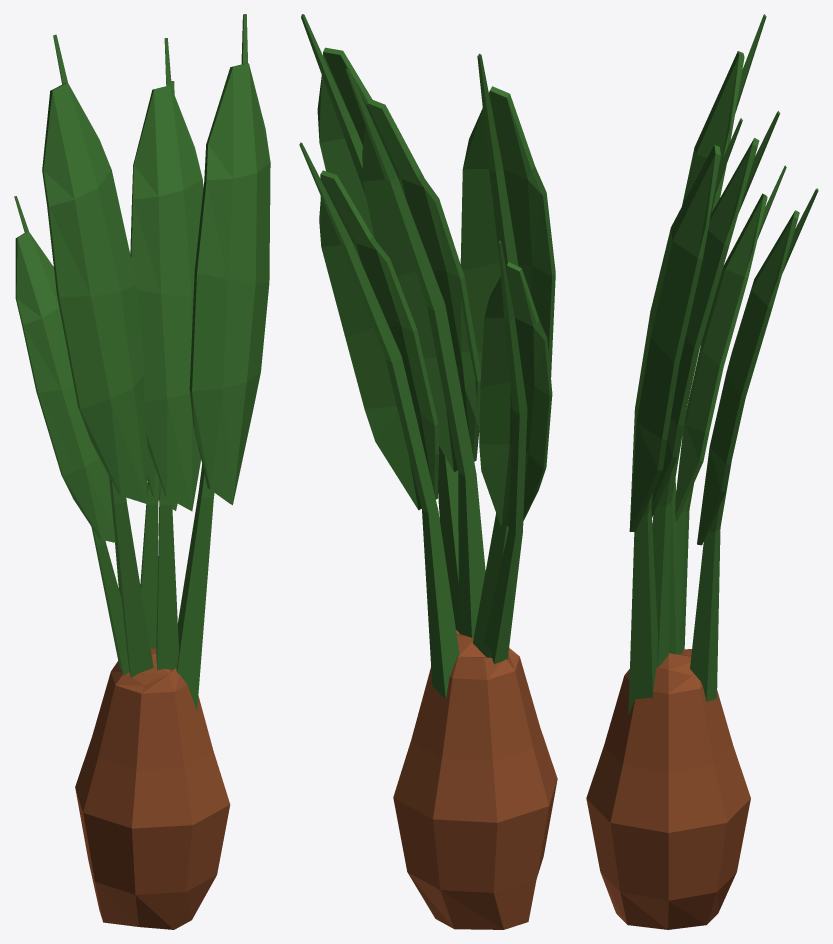
Rendered from bunker47-prop-palm12.glb.
The picture shows the model from 3 angles, left to right: view 1: azimuth 30°, elevation 25°; view 2: azimuth 150°, elevation 25°; view 3: azimuth 270°, elevation 25°; orthographic projection. The views are drawn at different scales.
Visible parts, largest first — view 1: Tree_Tropic_012; view 2: Tree_Tropic_012; view 3: Tree_Tropic_012.
Boxes of the visible parts, x1=… form: Tree_Tropic_012: x1=14, y1=14, x2=270, y2=929; Tree_Tropic_012: x1=299, y1=14, x2=557, y2=929; Tree_Tropic_012: x1=586, y1=14, x2=818, y2=929.
Size of the model in its own units: 179 by 632 by 152.
Materials: 1 (1 with a texture image).
